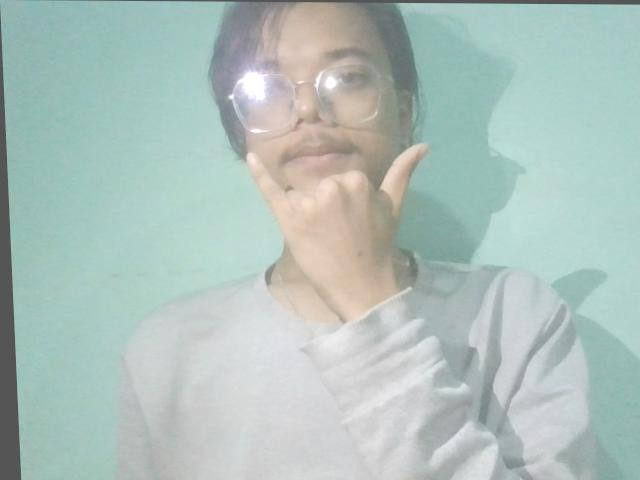Wrong: (222, 131, 450, 314)
